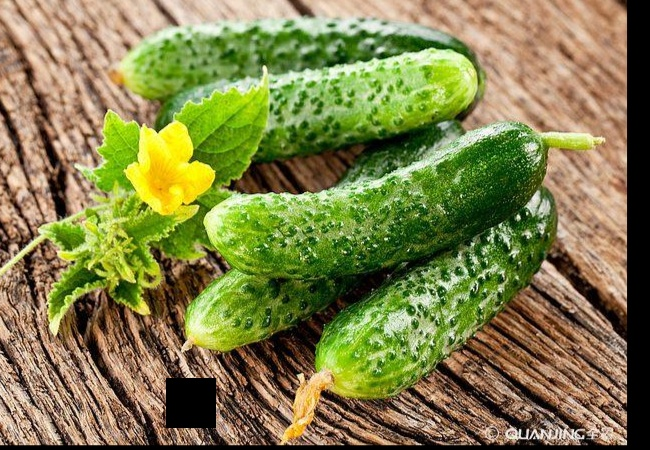cucumber: (330, 184, 554, 388), (211, 132, 539, 271)
cucumber_plant: (54, 68, 265, 308)
